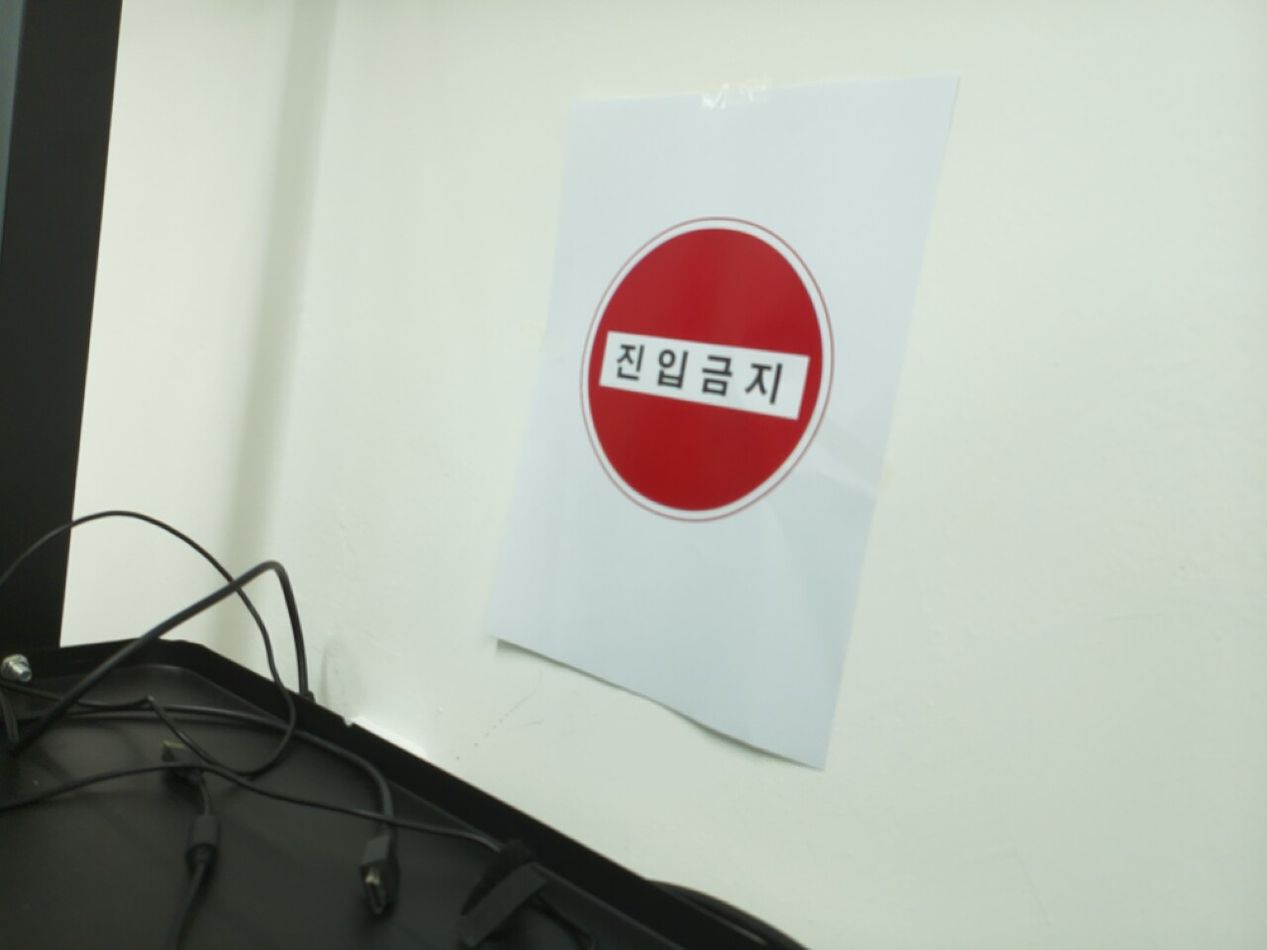do_not_enter: (580, 220, 830, 521)
